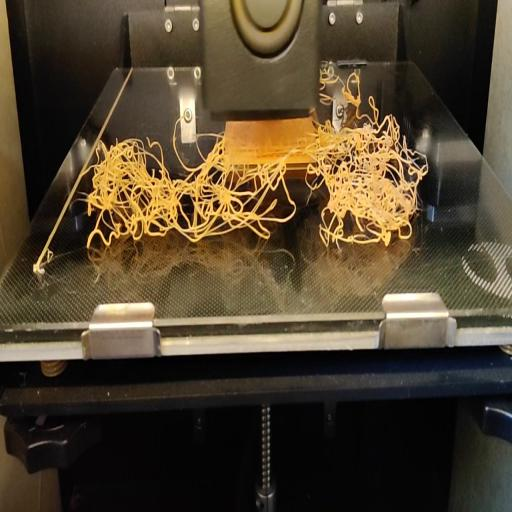spaghetti: (78, 118, 434, 260), (319, 61, 379, 117)
